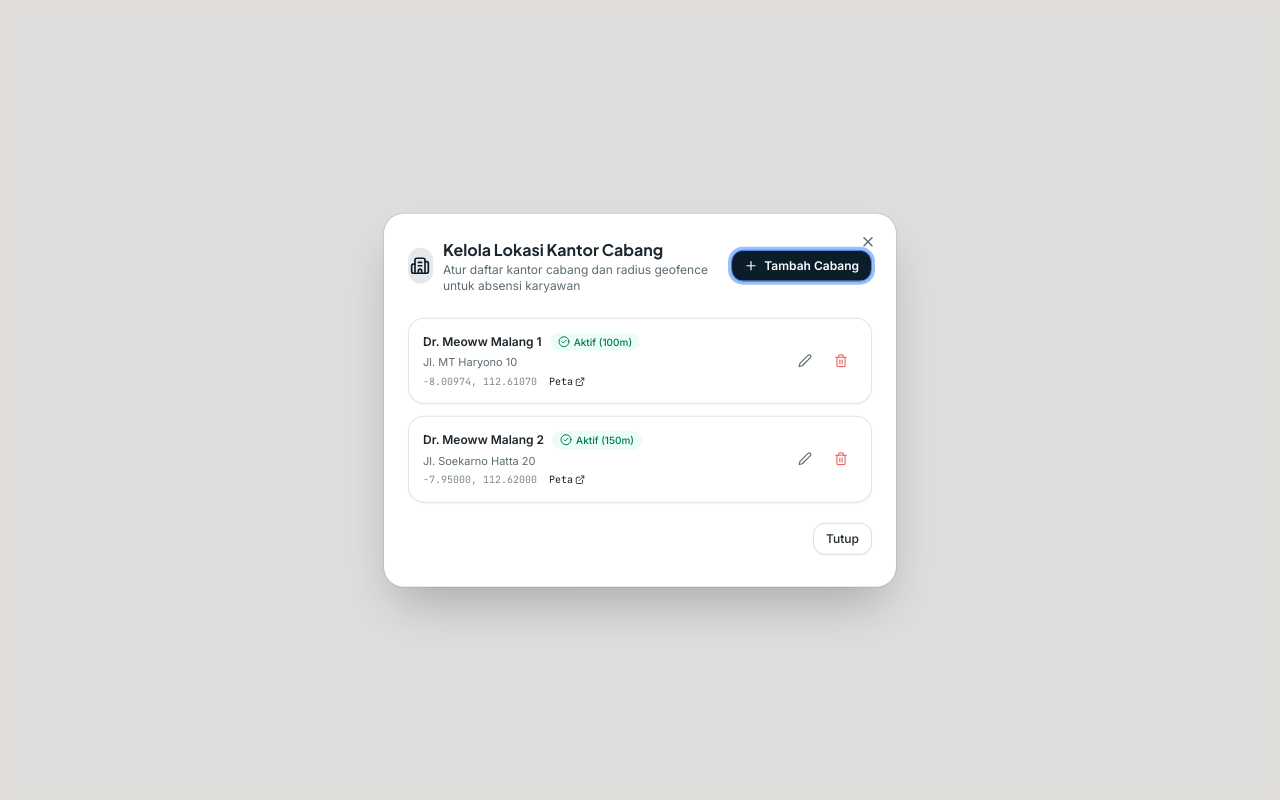
Test case: BranchManagementModal Component › resolves shortlink via fetch and populates coordinates & place name
Step 1. Click the button "Tambah Cabang" → (802, 266), box top-left (731, 250), bottom-right (872, 282)
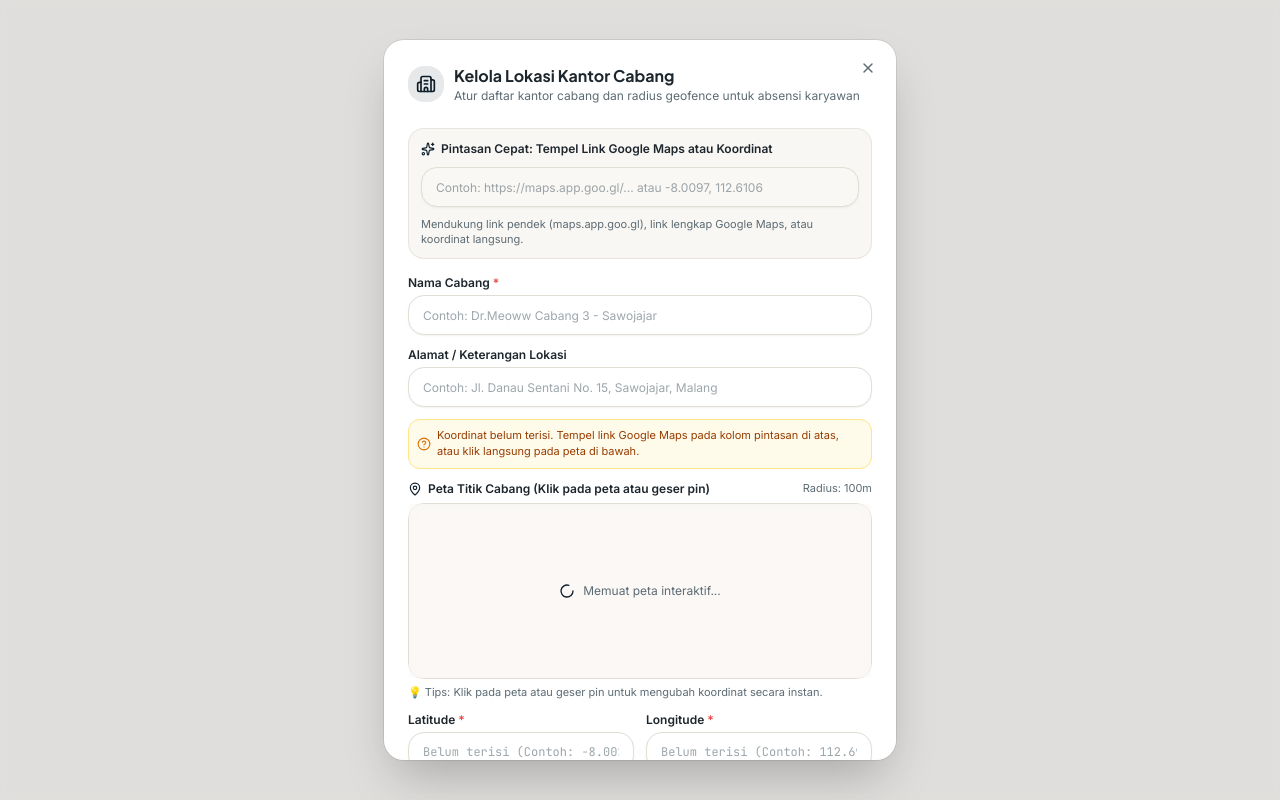
Step 2. Type "https://maps.app.goo.gl/2EnbUaGr2NP7sveu9" into the field with placeholder "Contoh: https://maps.app.goo.gl/... atau -8.0097, 112.6106" → (640, 187), box top-left (421, 167), bottom-right (859, 207)
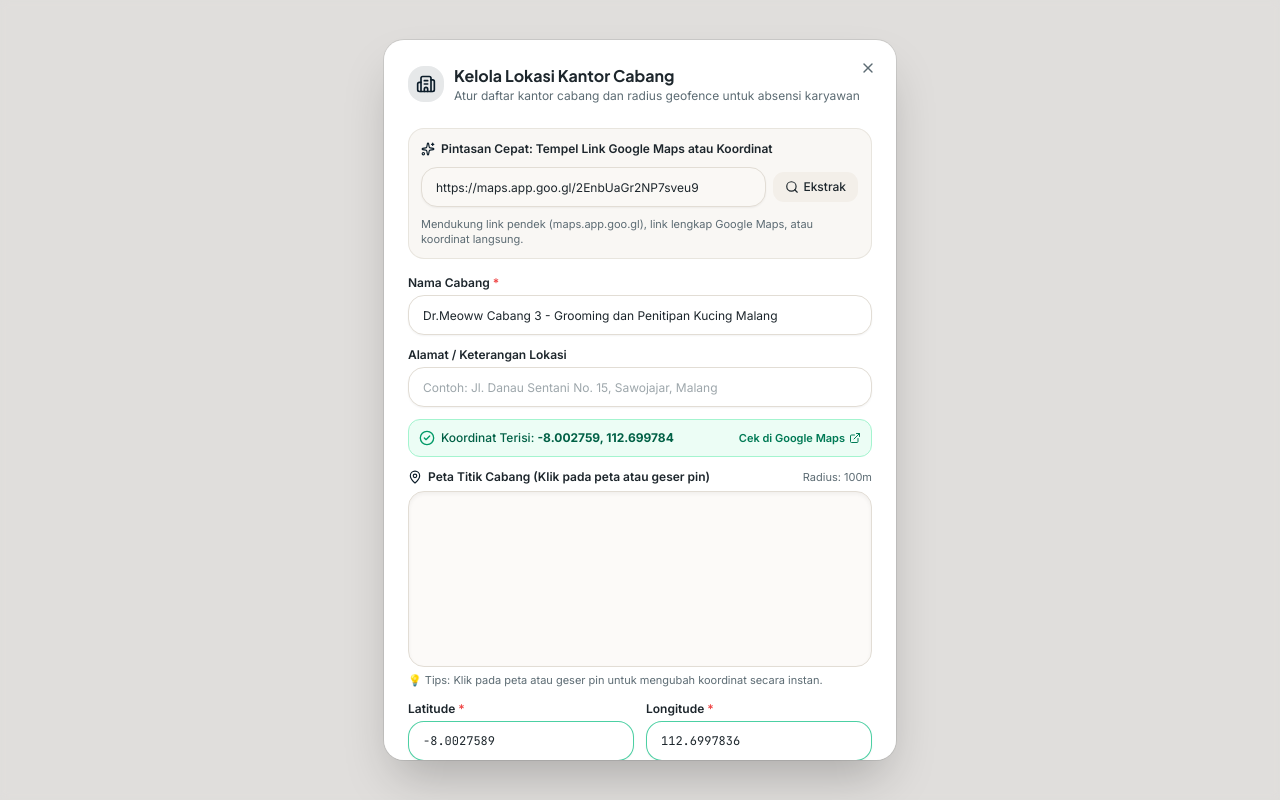
Now the field labelled "Latitude *" holds "-8.0027589", box top-left (408, 721), bottom-right (634, 760)
Now the field labelled "Longitude *" holds "112.6997836", box top-left (646, 721), bottom-right (872, 760)
Now the field labelled "Nama Cabang *" holds "Dr.Meoww Cabang 3 - Grooming dan Penitipan Kucing Malang", box top-left (408, 295), bottom-right (872, 335)
